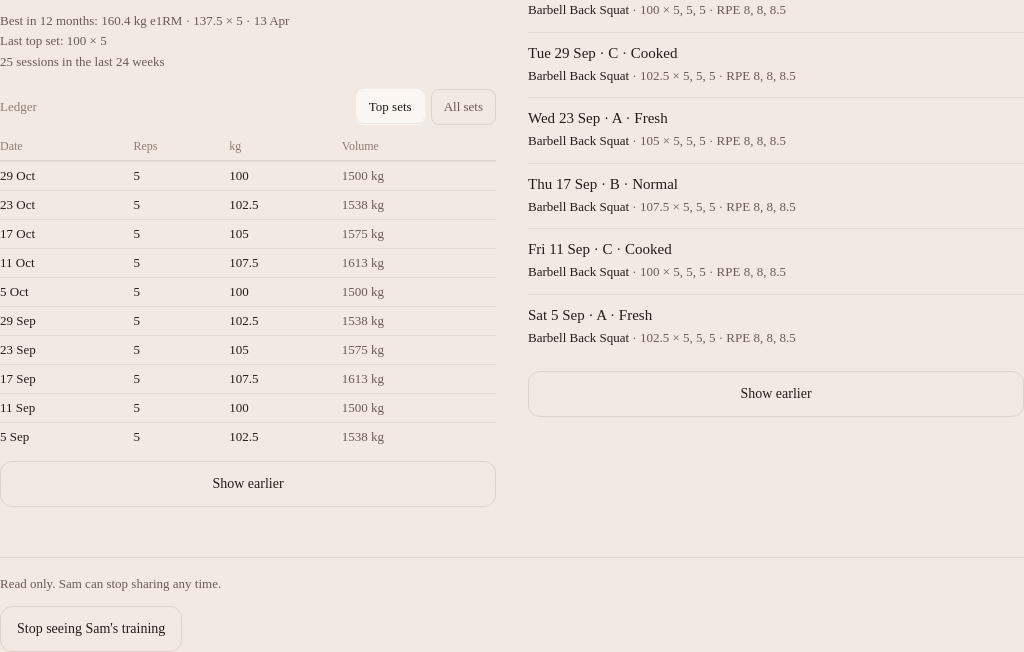
Test: TrainerClientView › asks before it stops seeing a client, then hands back
The width and height of the screenshot is (1024, 652).
(page scrolled)
expect the text "Read only. Sam can stop sharing any time." is shown: met, box [0,576,221,591]
Click the button "Stop seeing Sam's training".
click(91, 629)  # box [0,606,182,651]
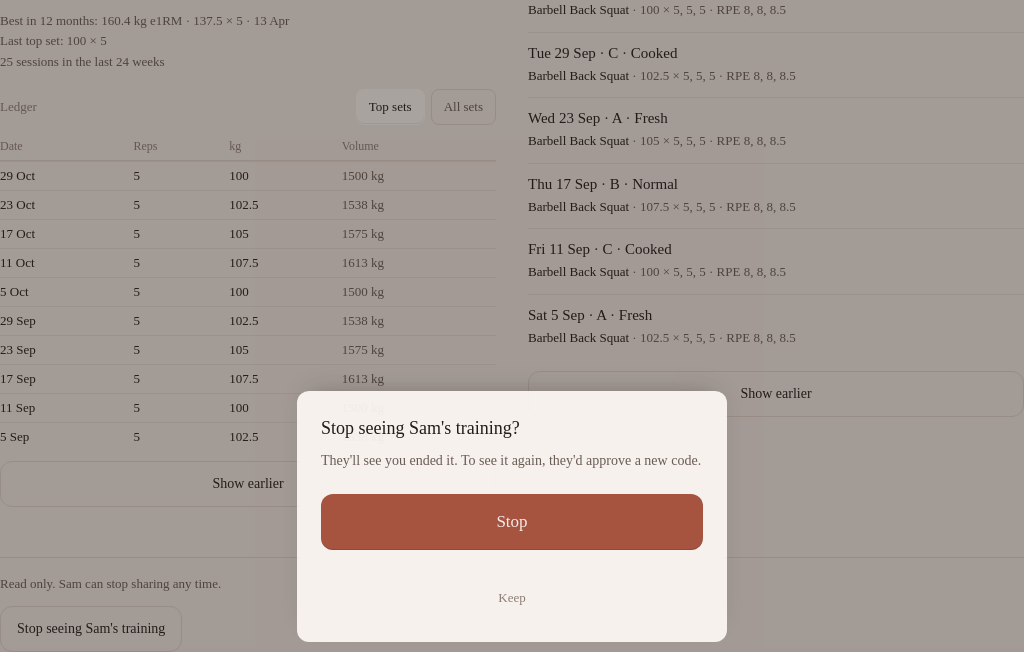
expect the text "Stop seeing Sam's training?" is shown: met, box [321,418,520,438]
expect the text "They'll see you ended it. To see it again, they'd approve a new code." is shown: met, box [321,450,703,472]
Click the button "Keep".
click(512, 598)  # box [321,578,703,618]
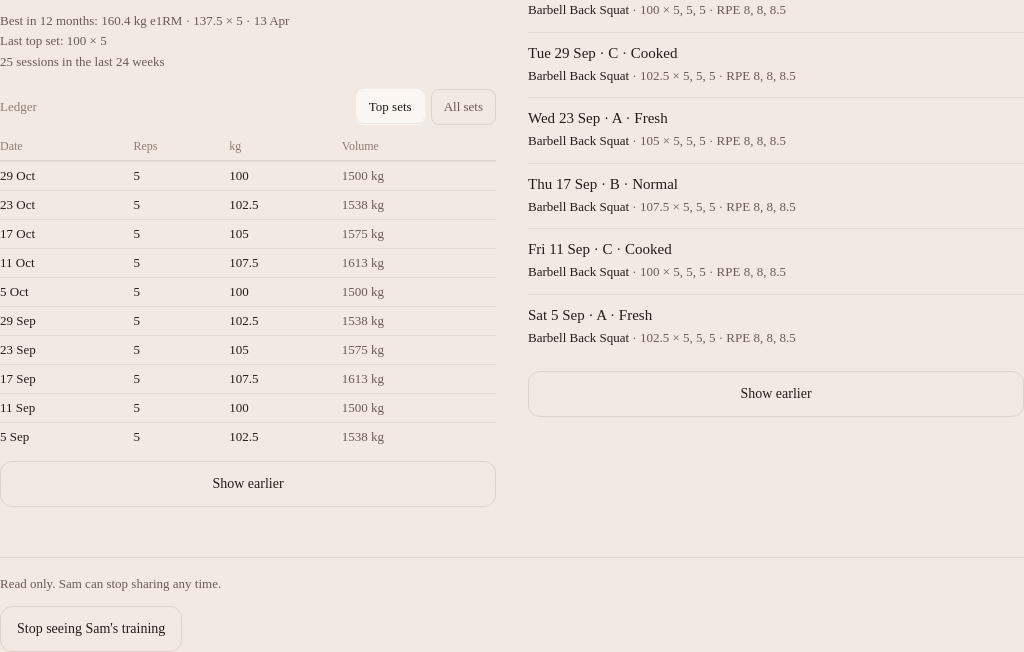
expect the dialog is gone: met
Click the button "Stop seeing Sam's training".
click(91, 629)  # box [0,606,182,651]
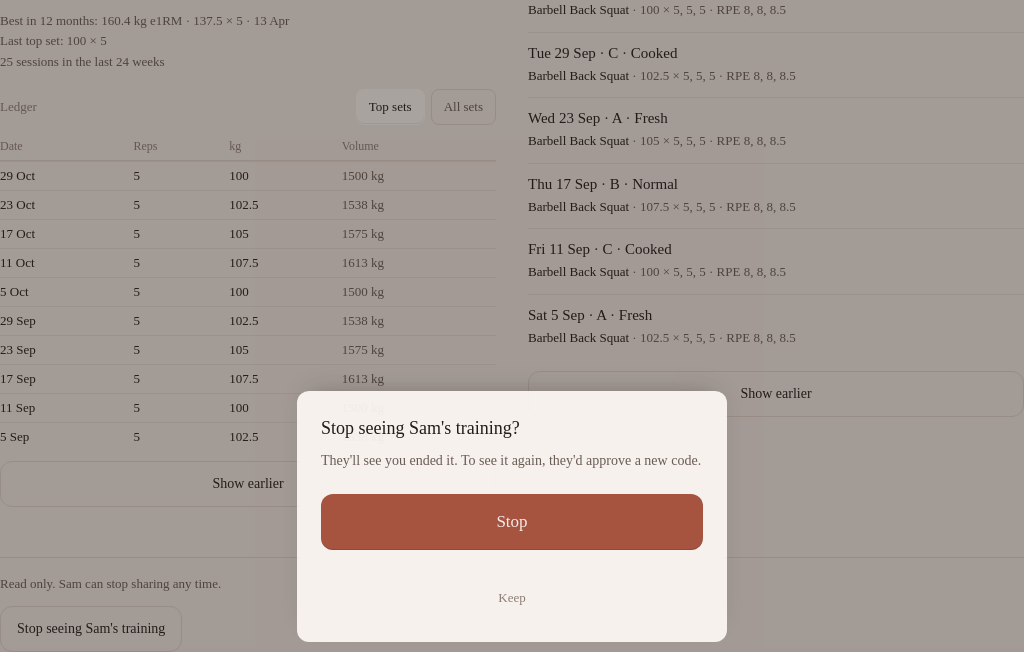
Click the button "Stop".
click(512, 522)  # box [321,494,703,550]
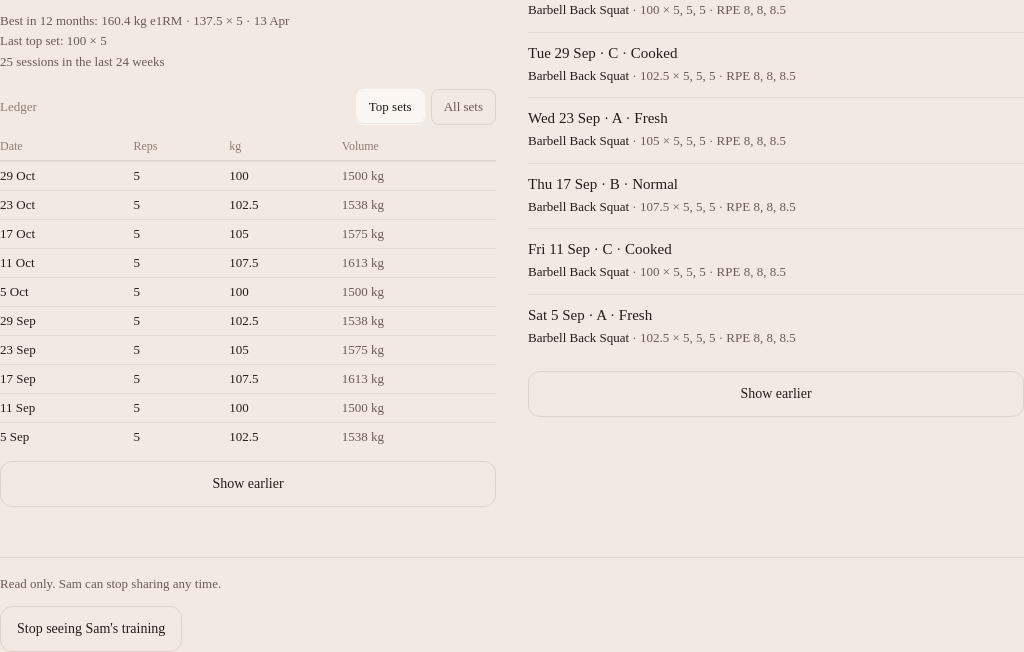
expect the dialog is gone: met
